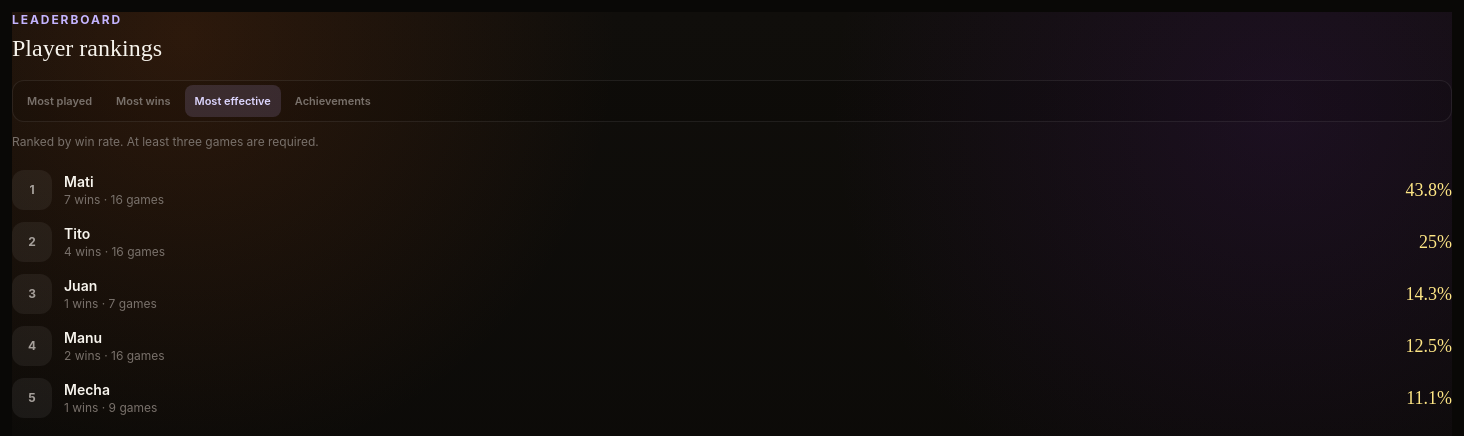
it: POD leaderboard › makes the formulas explicit and switches between games, wins, efficiency, and achievements
Expected: the text "Ranked by win rate. At least three games are required." is shown, [12,134,319,149]
Expected: the text "43.8%" is shown, [1406,176,1452,204]
Click the tab "Most wins": (143, 101) [106,85,180,117]
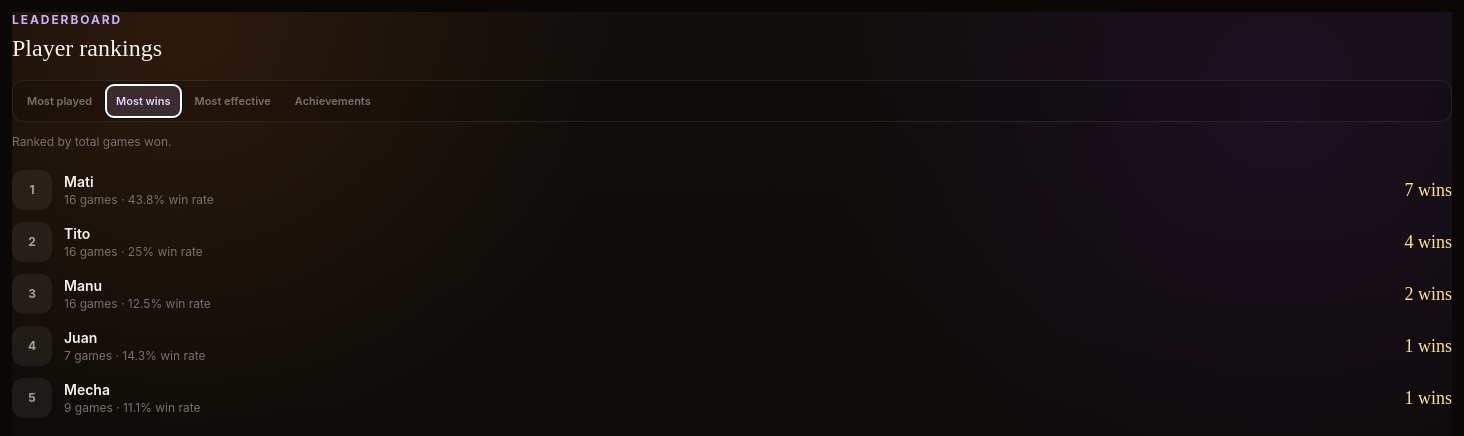
Now the text "16 games · 43.8% win rate" is shown, box [64,192,214,207]
Click the tab "Most played": (60, 101) [17,85,102,117]
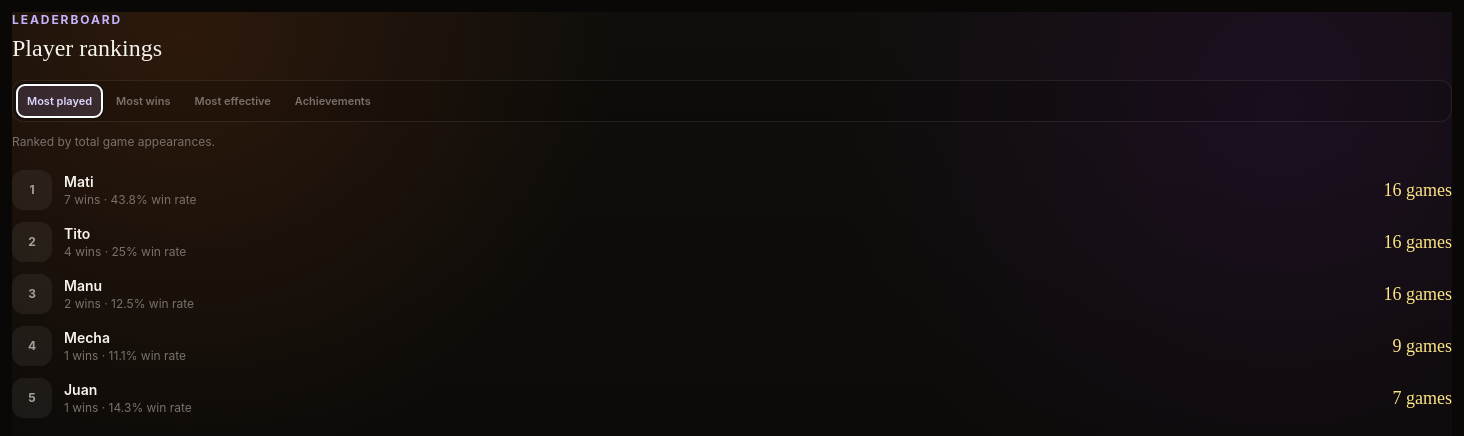
Click the tab "Achievements": (333, 101) [285,85,381,117]
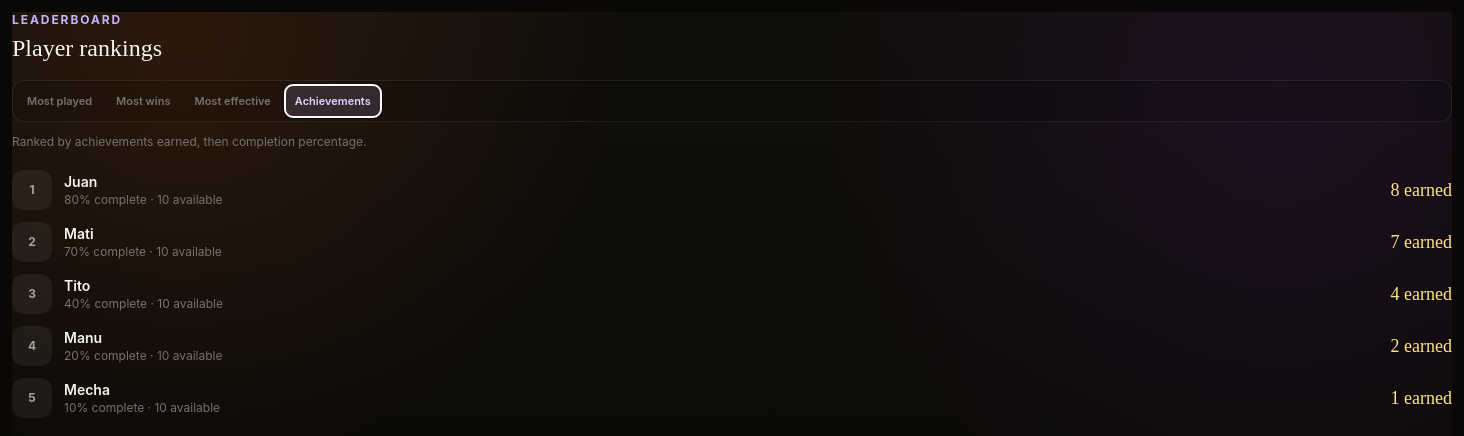
Now the text "Ranked by achievements earned, then completion percentage." is shown, box [12,134,366,149]
Now the text "8 earned" is shown, box [1390,176,1452,204]
Now the text "80% complete · 10 available" is shown, box [64,192,223,207]
